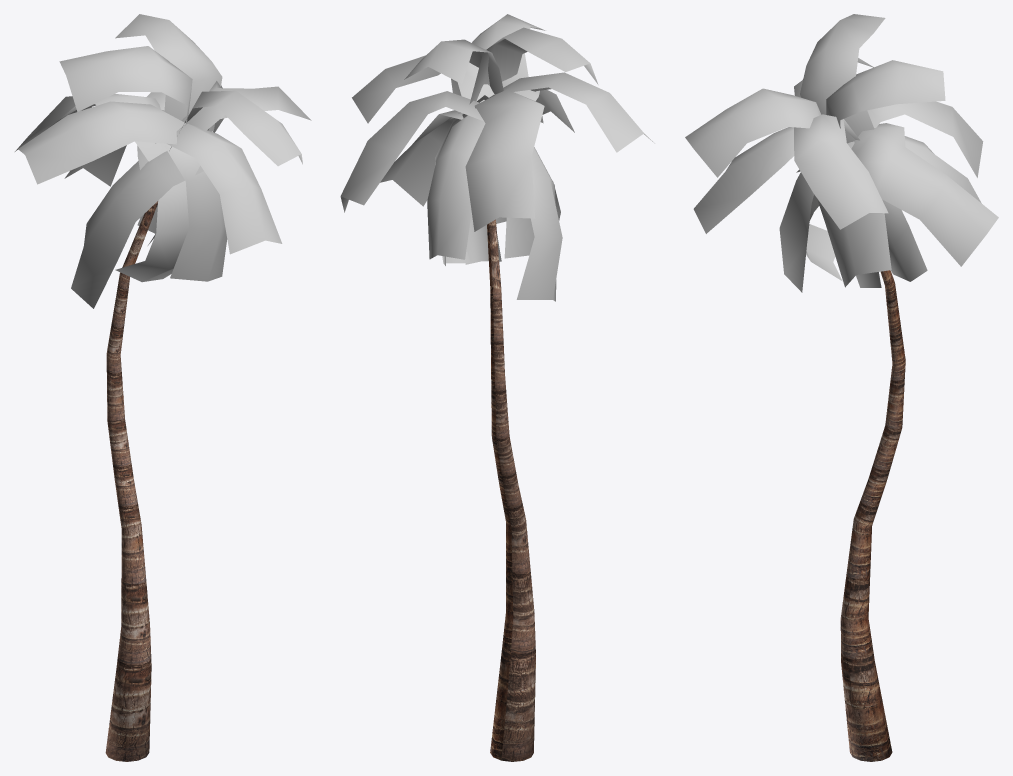
Rendered from palm3.fbx.
3 views of the same model, side by side, from view 1: azimuth 30°, elevation 25°; view 2: azimuth 150°, elevation 25°; view 3: azimuth 270°, elevation 25° (orthographic).
Visible parts, largest first — view 1: U3DMesh; view 2: U3DMesh; view 3: U3DMesh.
Part boxes in pixels (x1,y1,x2,y2): U3DMesh: [15, 14, 311, 761]; U3DMesh: [340, 14, 654, 761]; U3DMesh: [685, 14, 998, 761].
Bounding box in the file's own units: 108 × 256 × 102.
